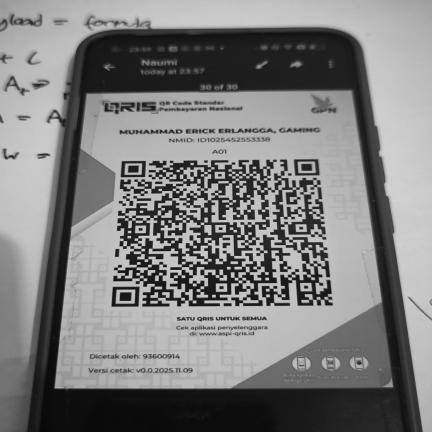Cara Pakai QRIS: (268, 345, 378, 386)
Cek Aplikasi Penyelenggara: (168, 324, 275, 338)
Dicetak Oleh: (84, 351, 188, 361)
Logo GPN: (303, 92, 342, 119)
Logo dan deskripsi QRIS: (94, 96, 249, 118)
Nama Merchant: (115, 124, 328, 136)
National Merchant ID: (162, 136, 281, 145)
QR Code: (108, 156, 339, 310)
Slogan: (170, 314, 273, 323)
Terminal ID: (208, 148, 231, 156)
Versi Cetak: (82, 364, 199, 376)
